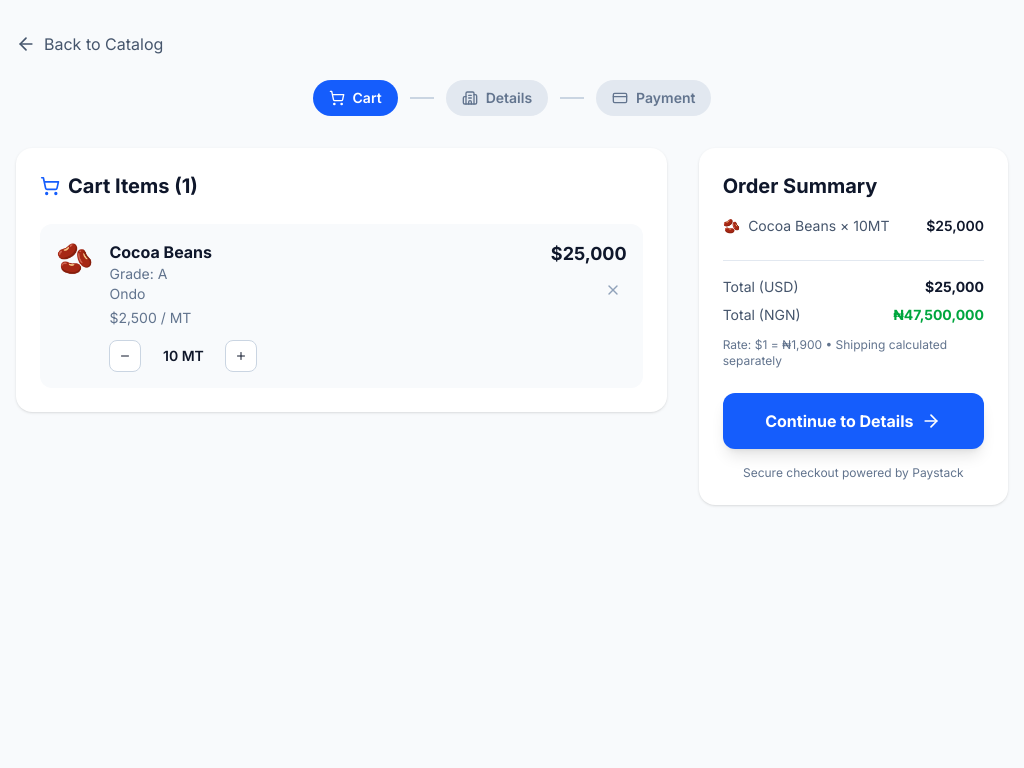
Scenario: #577 — the screen quotes the rate the server charges at › AND SO IS THE NUMBER ON THE BUTTON
This screenshot has width=1024, height=768.
Click the button "Continue to Details" at (853, 421), box [723,393,984,449]
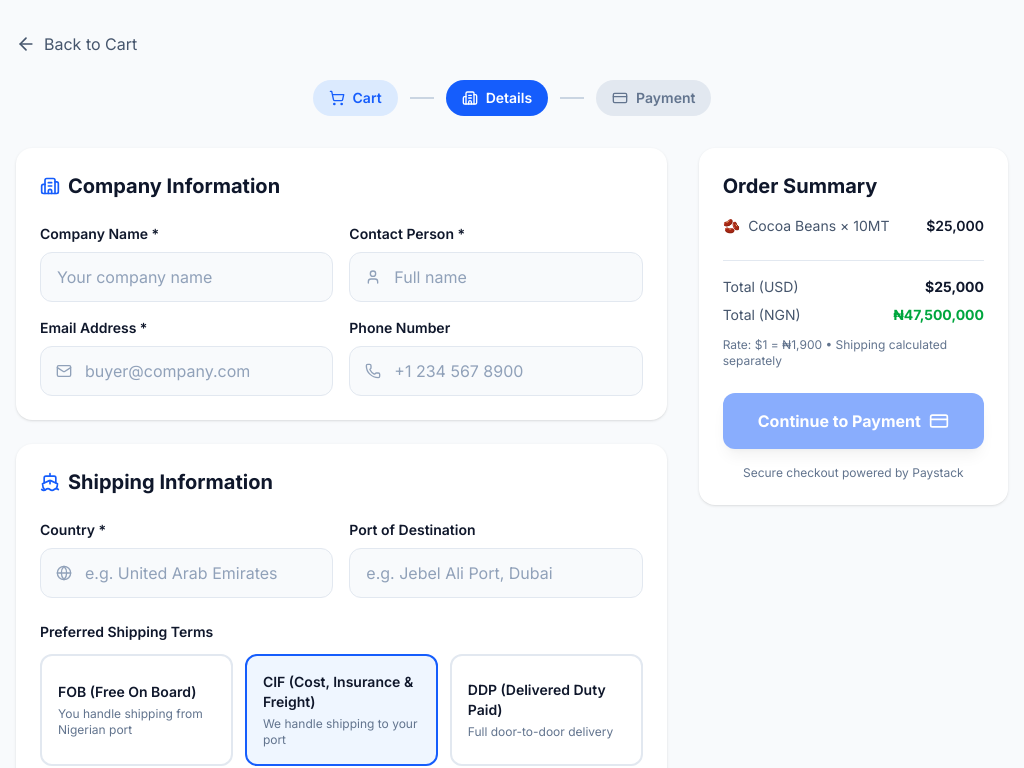
Type "A Co" into the field with placeholder "Your company name" at (187, 277), box [40,252,333,302]
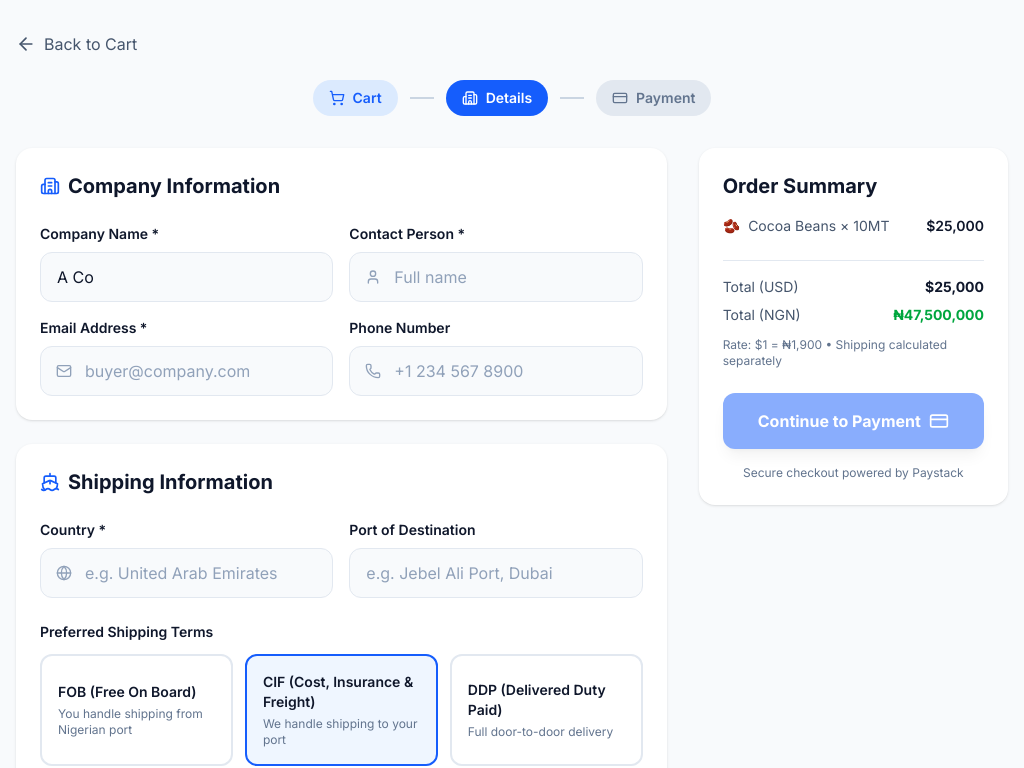
Type "A Person" into the field with placeholder "Full name" at (496, 277), box [349,252,643,302]
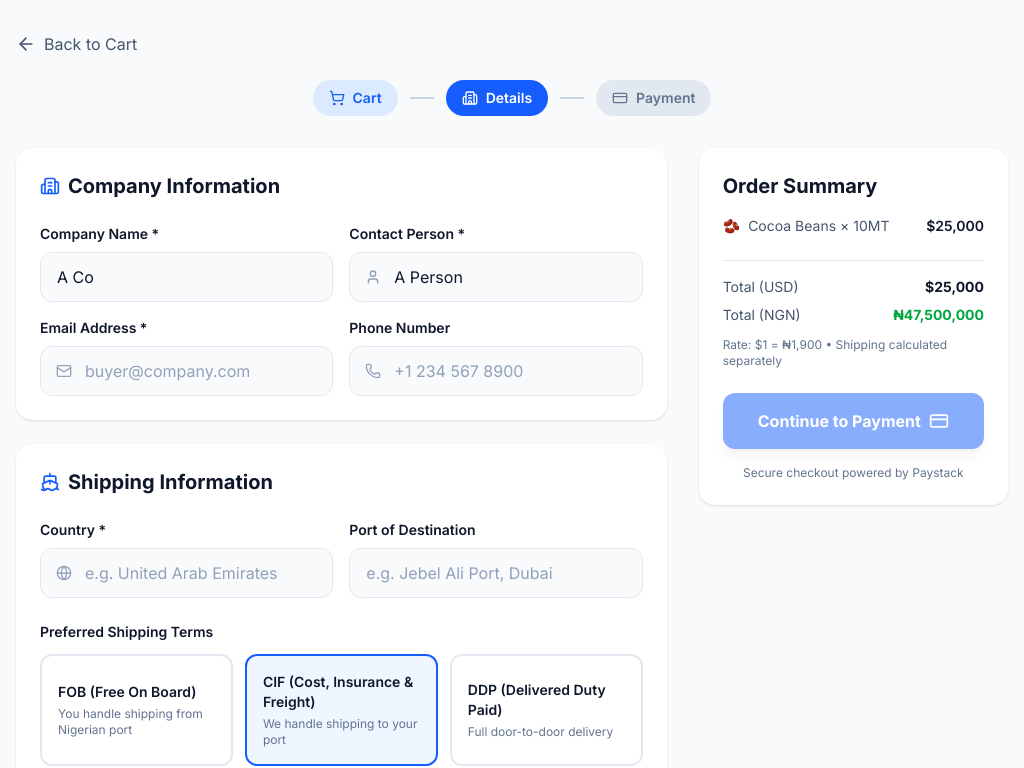
Type "b@e.com" into the field with placeholder "buyer@company.com" at (187, 371), box [40,346,333,396]
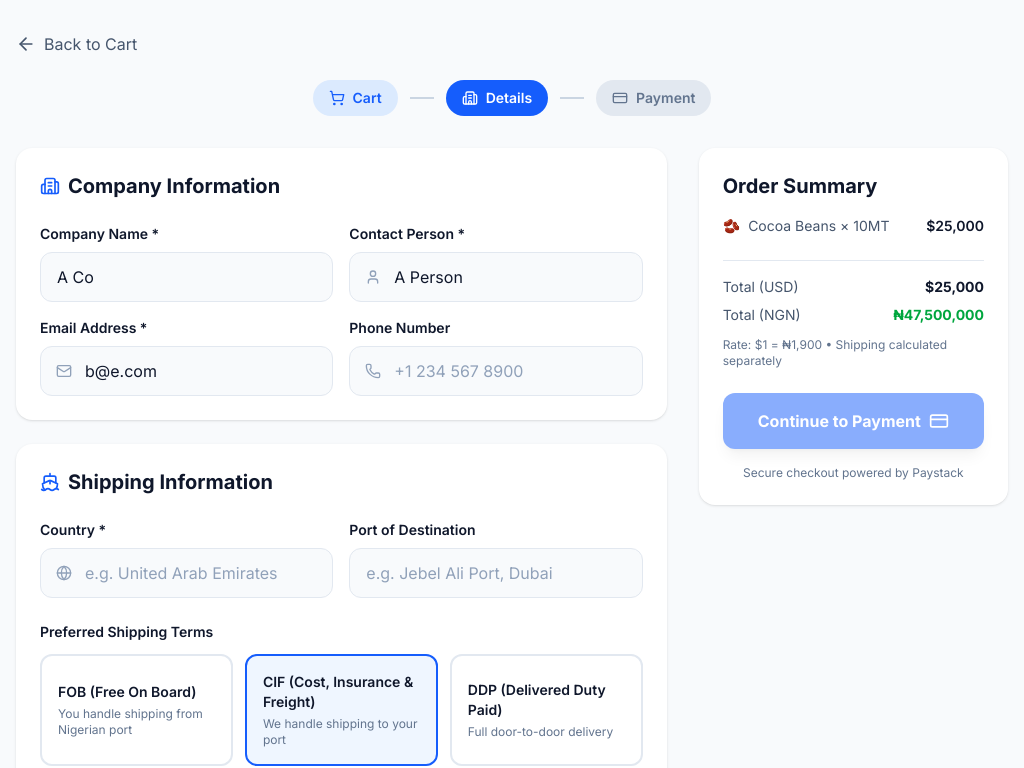
Type "Germany" into the field with placeholder "e.g. United Arab Emirates" at (187, 573), box [40,548,333,598]
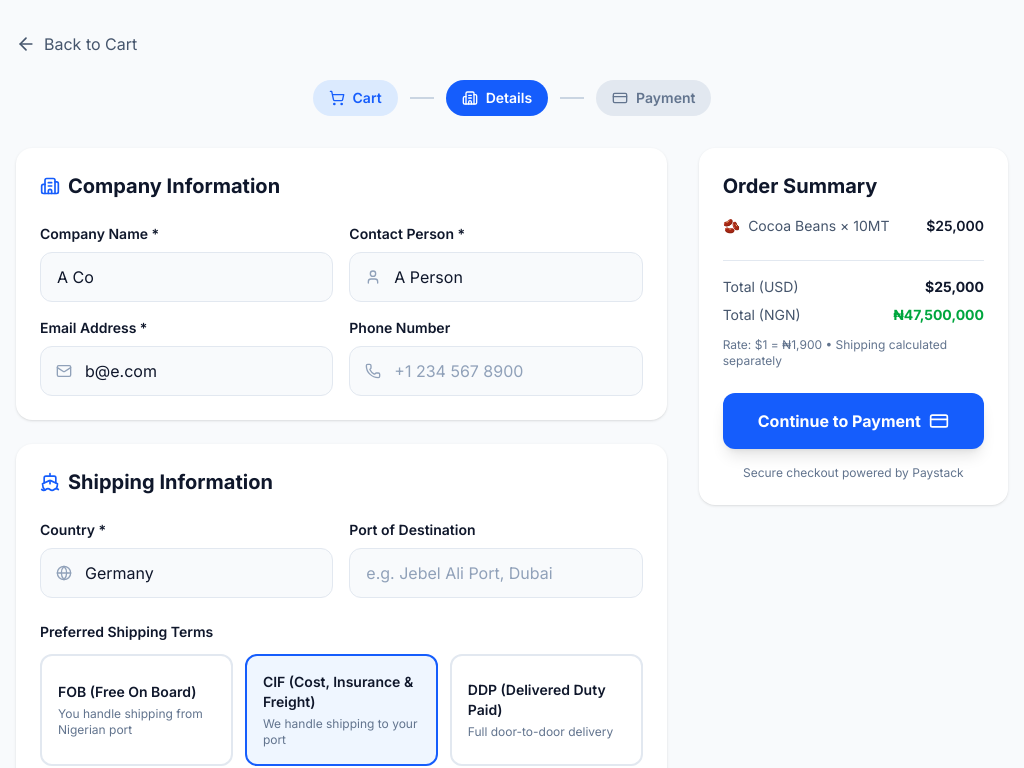
Click the button "Continue to Payment" at (853, 421), box [723,393,984,449]
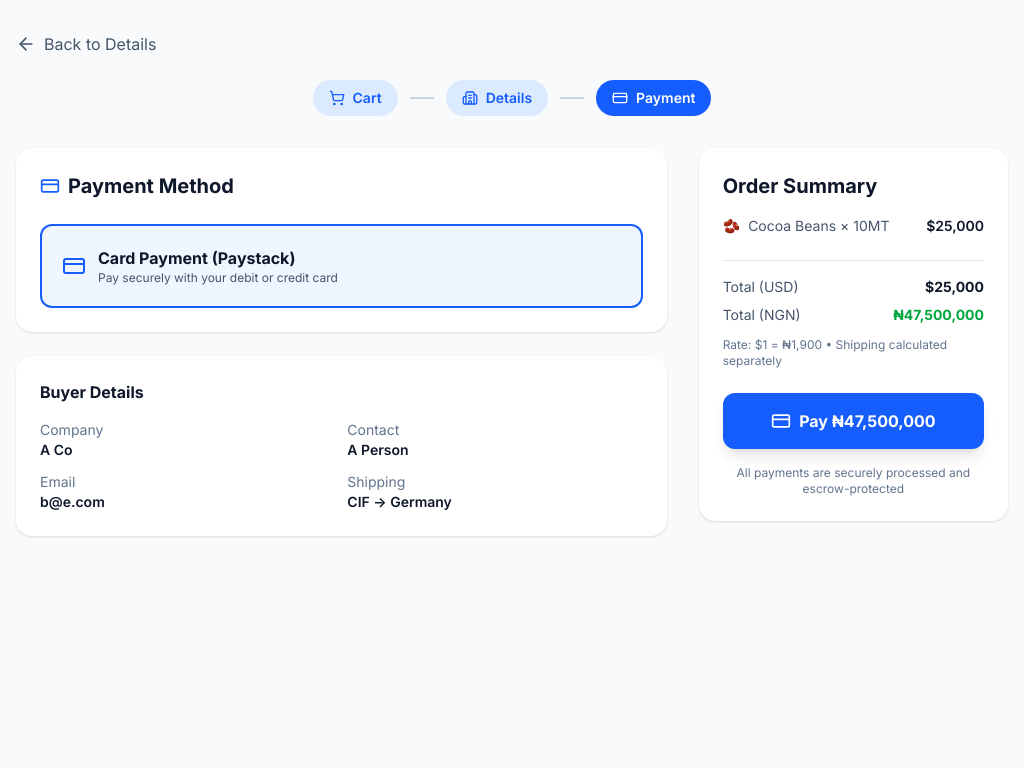
Expected: the button "Pay ₦47,500,000" is shown, [723,393,984,449]
